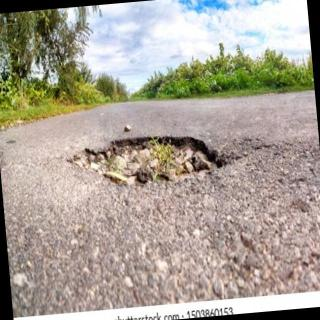pothole: (70, 136, 226, 186)
